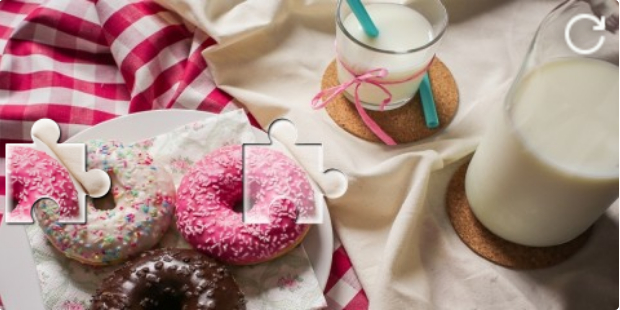target: (242, 119, 347, 223)
